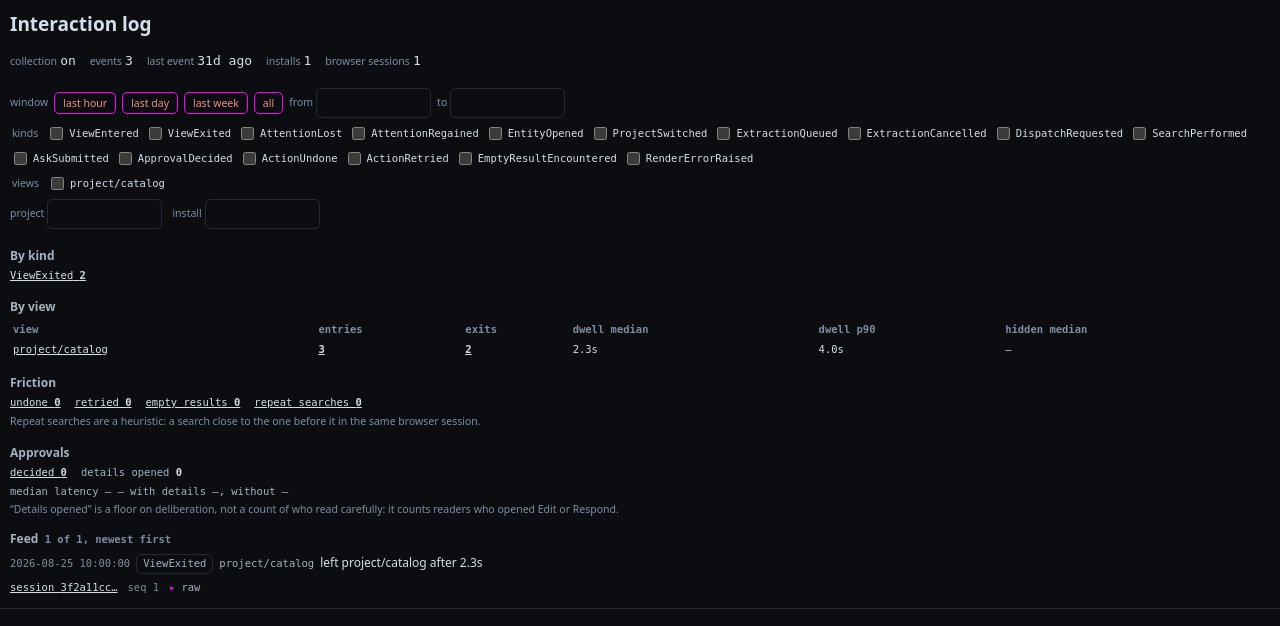
Scenario: InteractionsView › narrows the feed when a summary count is clicked
Click the link "ViewExited 2": (42, 275) [10, 269, 86, 281]
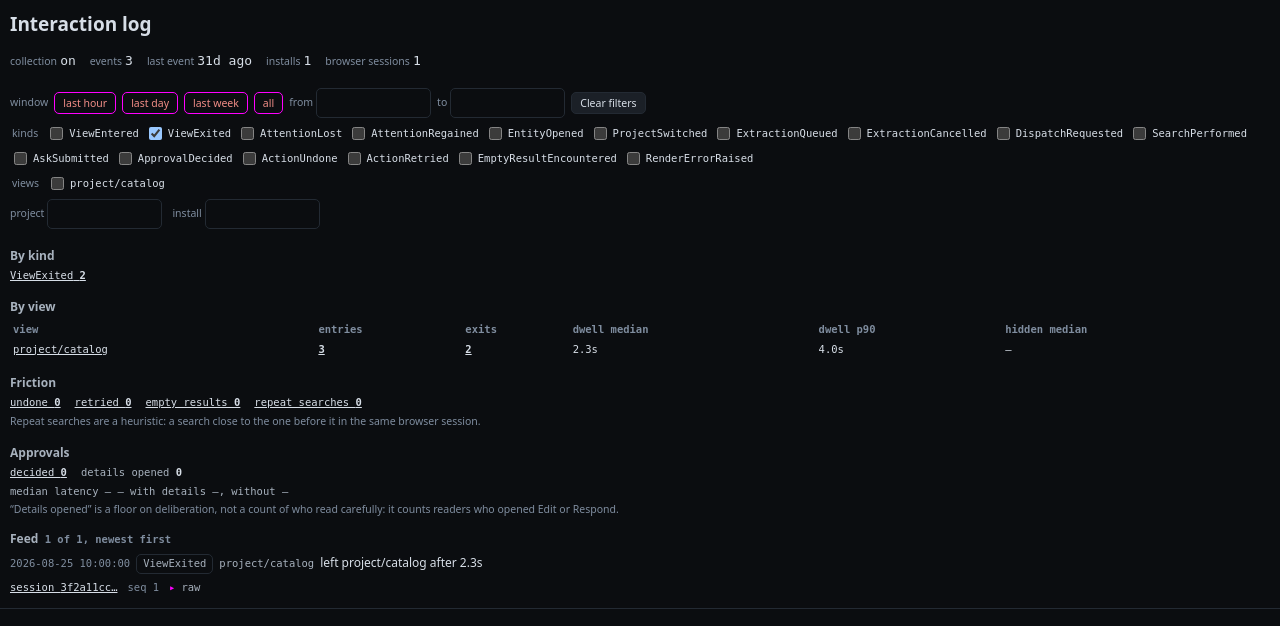
Now the checkbox labelled "ViewExited" is checked, box [149, 127, 162, 140]
